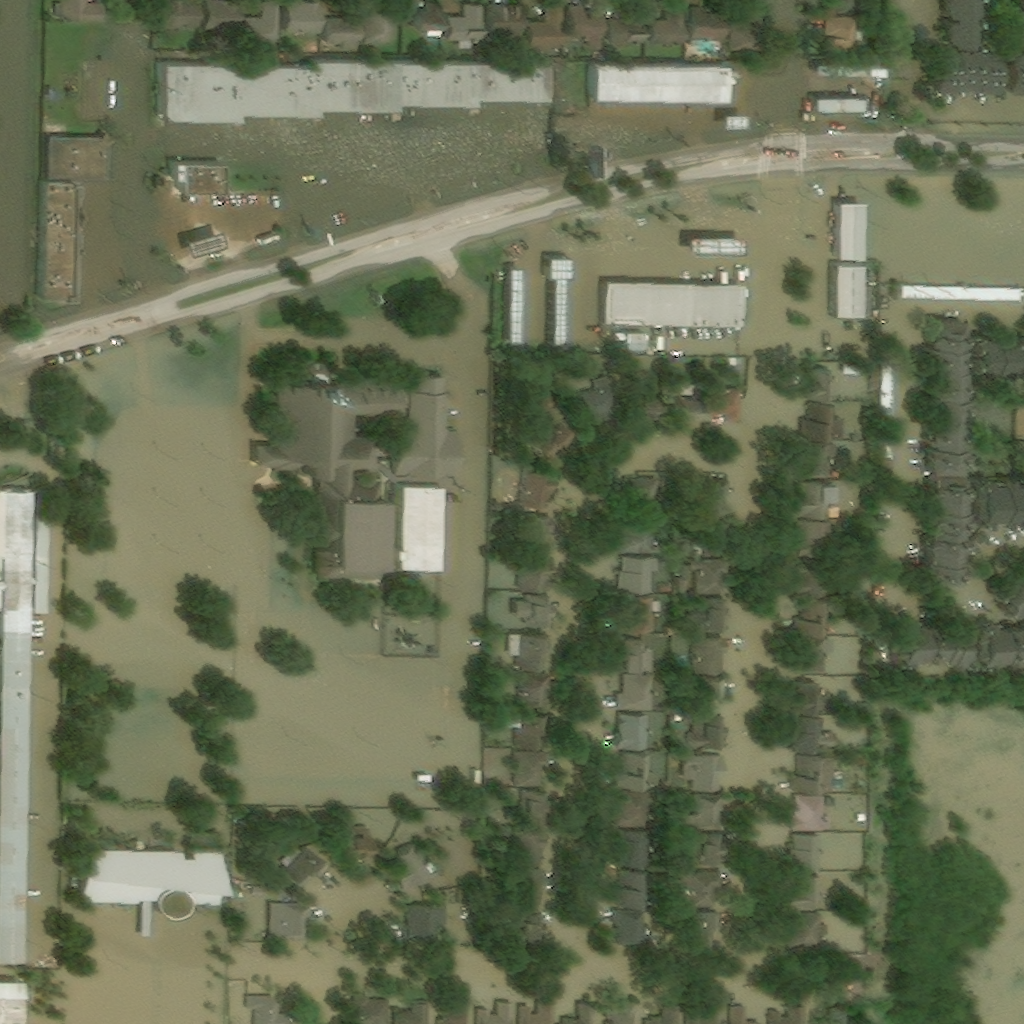destroyed: (895, 66, 909, 86)
major_damage: (161, 61, 550, 126), (254, 358, 407, 492), (80, 849, 219, 938), (0, 632, 29, 968), (602, 279, 744, 332), (394, 372, 458, 489), (926, 317, 970, 473), (318, 481, 382, 580), (591, 62, 728, 104), (920, 475, 970, 588), (385, 571, 443, 665), (383, 480, 436, 572), (0, 489, 32, 632), (891, 617, 971, 674), (41, 180, 76, 306), (522, 387, 579, 461), (31, 517, 70, 618), (43, 132, 112, 183), (970, 469, 1022, 534), (927, 47, 997, 94), (426, 891, 474, 952), (390, 847, 441, 895), (973, 620, 1022, 669), (545, 256, 571, 347), (970, 333, 1022, 378), (576, 380, 623, 428), (281, 849, 330, 893), (834, 200, 865, 265), (905, 289, 1022, 306), (508, 629, 551, 673), (680, 752, 724, 794), (991, 566, 1022, 622), (793, 756, 835, 797), (794, 718, 838, 757), (707, 377, 742, 426), (619, 597, 661, 637), (629, 477, 668, 520), (803, 403, 844, 443), (834, 265, 863, 321), (883, 343, 896, 463), (270, 904, 312, 941), (681, 795, 723, 832), (687, 560, 726, 599), (506, 709, 542, 751), (613, 832, 651, 871), (799, 483, 836, 523), (521, 471, 556, 513), (795, 642, 834, 679), (621, 520, 660, 557), (791, 799, 831, 835), (680, 876, 721, 911), (512, 593, 553, 628), (517, 553, 552, 594), (795, 599, 830, 640), (616, 751, 649, 794), (687, 909, 723, 948), (688, 596, 727, 632), (518, 513, 551, 555), (613, 870, 647, 910), (693, 635, 726, 676), (698, 478, 730, 520), (788, 876, 824, 913), (800, 445, 835, 483), (505, 267, 522, 345), (692, 675, 724, 716), (615, 795, 650, 832), (617, 676, 651, 714), (517, 825, 546, 869), (692, 713, 725, 751), (616, 714, 648, 753), (620, 558, 652, 597), (514, 752, 546, 790), (690, 831, 722, 869), (517, 674, 549, 712), (619, 635, 649, 675), (56, 0, 103, 25), (613, 911, 643, 950), (797, 522, 830, 557), (796, 568, 834, 598), (685, 233, 742, 253), (789, 918, 831, 945), (409, 905, 448, 934), (183, 228, 223, 256), (792, 680, 821, 718), (246, 998, 290, 1023), (340, 829, 371, 864), (519, 868, 546, 908), (794, 836, 821, 876), (0, 979, 23, 1023), (1000, 48, 1022, 94), (667, 397, 701, 426), (807, 368, 833, 405), (699, 523, 725, 559), (354, 998, 391, 1023), (812, 96, 864, 113), (631, 395, 661, 423), (521, 787, 544, 823), (812, 60, 862, 76), (248, 886, 292, 904), (519, 908, 545, 937), (395, 1001, 428, 1023), (478, 1003, 514, 1023), (522, 1002, 556, 1023), (688, 1006, 726, 1023), (440, 1001, 469, 1023), (613, 334, 646, 353), (607, 1004, 636, 1023), (771, 1008, 806, 1023), (648, 1008, 682, 1023), (882, 464, 895, 500), (565, 1005, 589, 1023), (717, 112, 745, 126), (823, 1011, 851, 1023), (845, 366, 867, 378), (732, 1009, 748, 1023), (673, 855, 690, 868), (870, 68, 886, 78), (894, 289, 903, 304), (873, 377, 880, 393), (661, 589, 671, 598), (674, 599, 683, 608), (666, 629, 673, 637)
minor_damage: (566, 7, 603, 62), (325, 3, 363, 55), (172, 160, 223, 197), (731, 12, 771, 54), (525, 8, 563, 52), (689, 10, 726, 52), (944, 0, 977, 47), (281, 0, 320, 38), (649, 8, 686, 48), (406, 2, 444, 40), (247, 3, 280, 46), (608, 10, 645, 48), (365, 5, 397, 48), (447, 5, 483, 43), (488, 3, 525, 39), (162, 0, 201, 33), (825, 20, 860, 56), (204, 0, 238, 18), (1010, 0, 1022, 50), (825, 0, 854, 17)
